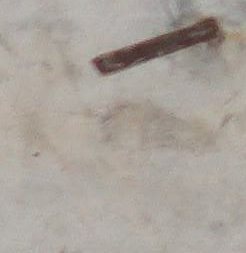Exposed reinforcement: (90, 17, 219, 76)
